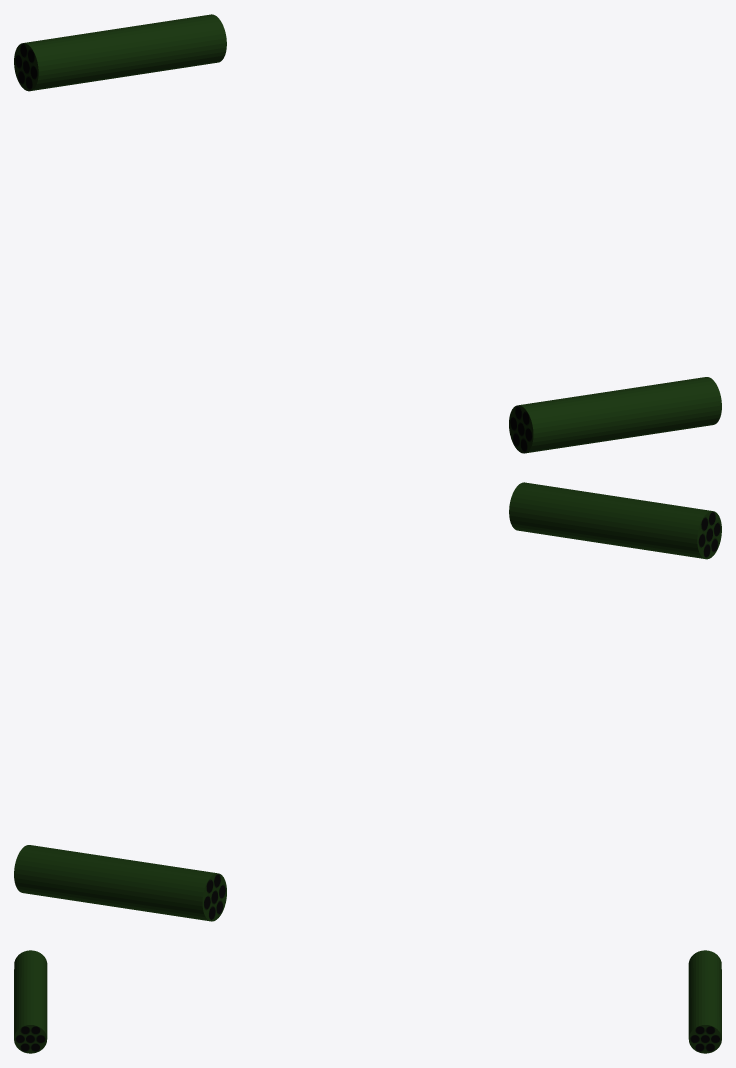
3 renders of one model, top to bottom at view 1: azimuth 30°, elevation 25°; view 2: azimuth 150°, elevation 25°; view 3: azimuth 270°, elevation 25°, orthographic. The views are drawn at different scales.
Visible parts, largest first — view 1: 円柱.008, 円柱.005; view 2: 円柱.005, 円柱.008; view 3: 円柱.005, 円柱.008.
Part boxes in pixels (left/top/right/bottom): 円柱.008: left=509, top=377, right=721, bottom=453; 円柱.005: left=14, top=14, right=226, bottom=91; 円柱.005: left=14, top=845, right=226, bottom=921; 円柱.008: left=509, top=482, right=721, bottom=559; 円柱.005: left=688, top=950, right=721, bottom=1053; 円柱.008: left=14, top=950, right=47, bottom=1053.
Bounding box in the file's own units: 1.46 × 0.4464 × 6.84.
Materials: 1 (1 with a texture image).
